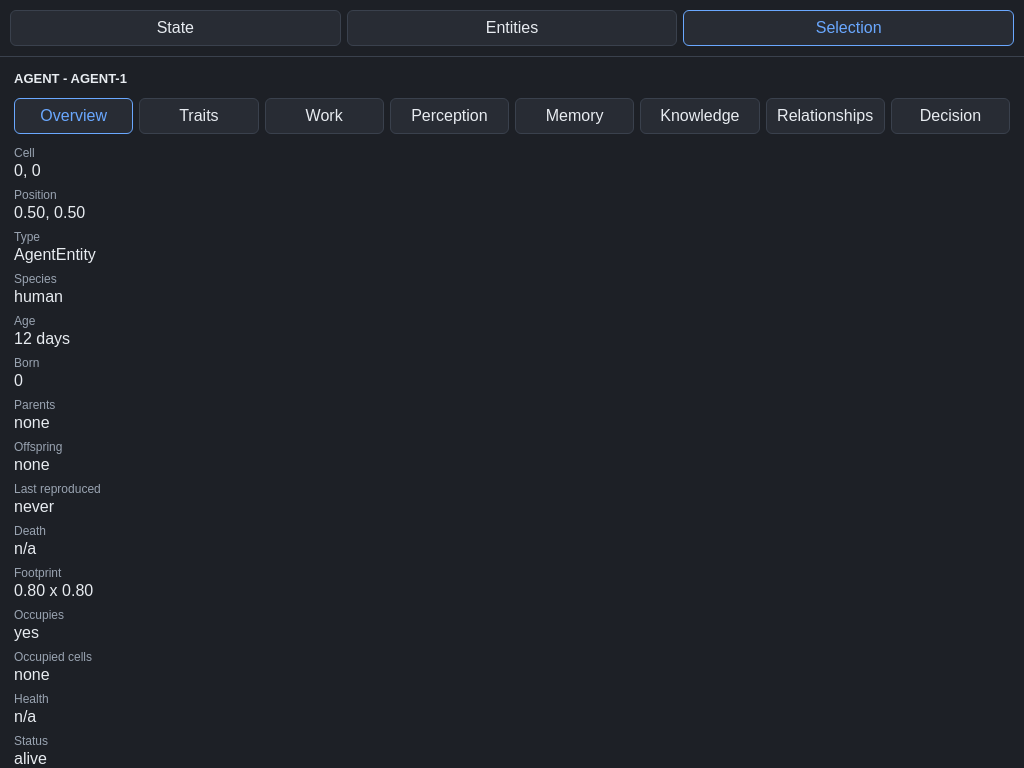
Inspector › renders perceived entities and opportunities for selected agents
Click the button "Perception".
click(449, 116)  # box [390,98,509,134]
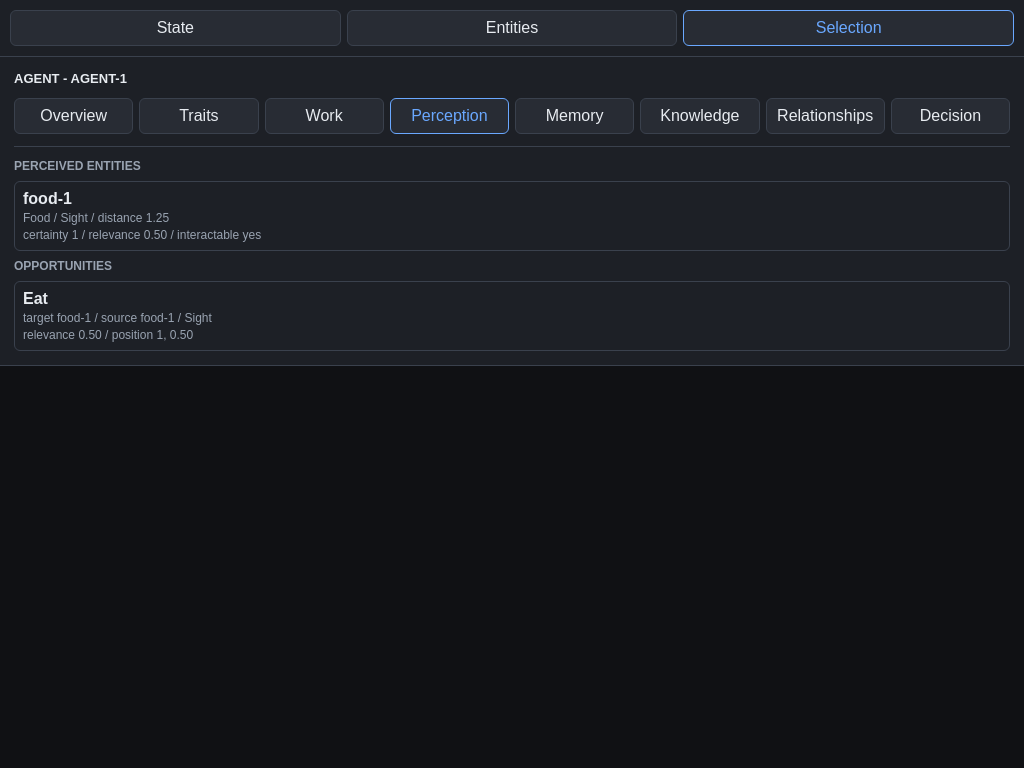
Expected: the text "Perceived entities" is shown, [14,159,141,173]
Expected: the text "food-1" is shown, [23,190,72,207]
Expected: the text "Food / Sight / distance 1.25" is shown, [23,211,169,225]
